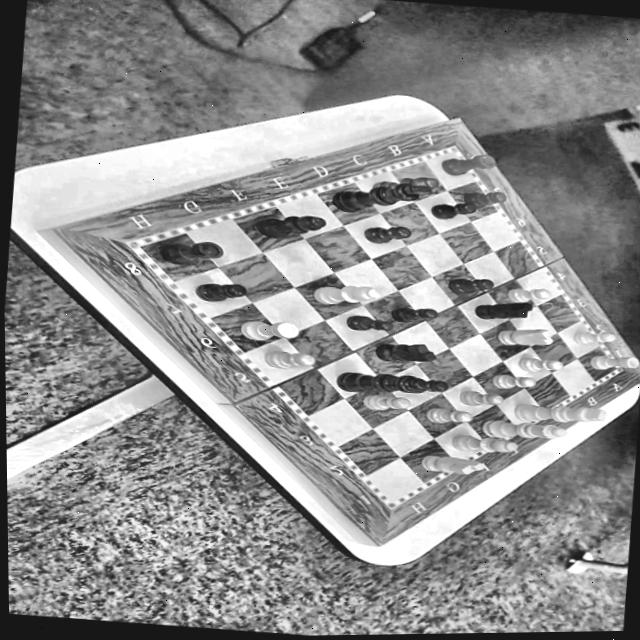chessboard: (142, 151, 618, 500)
